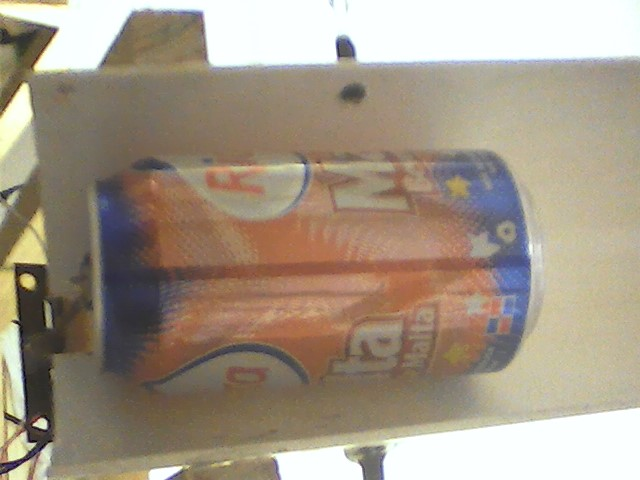lata: (81, 140, 551, 395)
